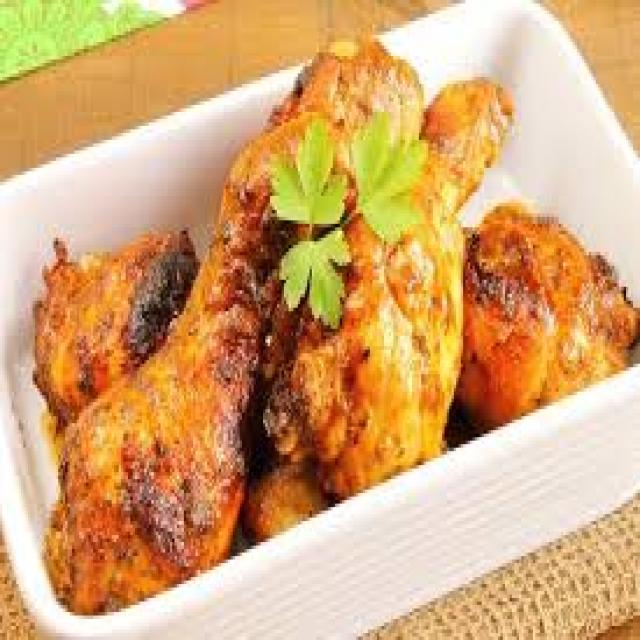Frango: (35, 42, 640, 612)
